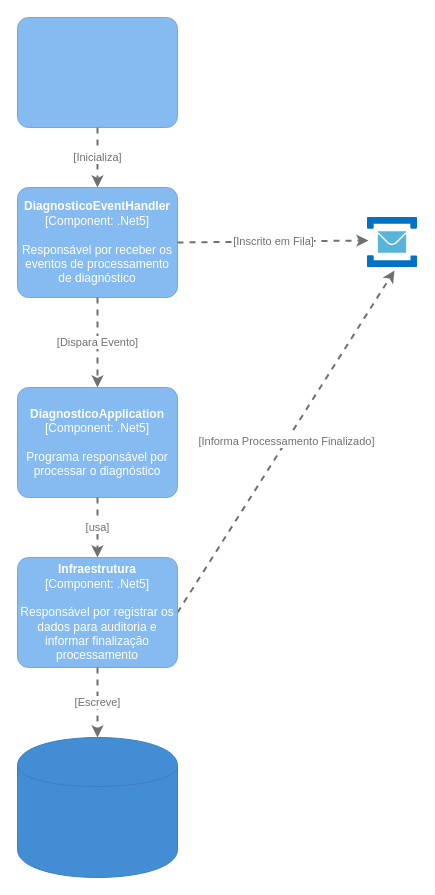
The diagram is 435 pixels wide and 895 high, and some of its shapes have lost their labels. Each missing label, with the centre of its shape:
"Database [Container: SQLServer] Guarda registros auditoria" goes at point 97,807.
"main [Component: .Net5] Programa principal" goes at point 97,72.
